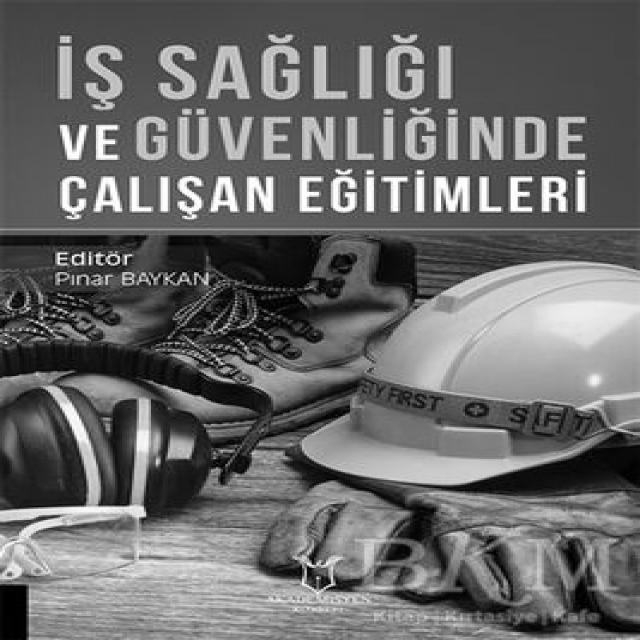safety_helmet: (297, 261, 640, 491)
